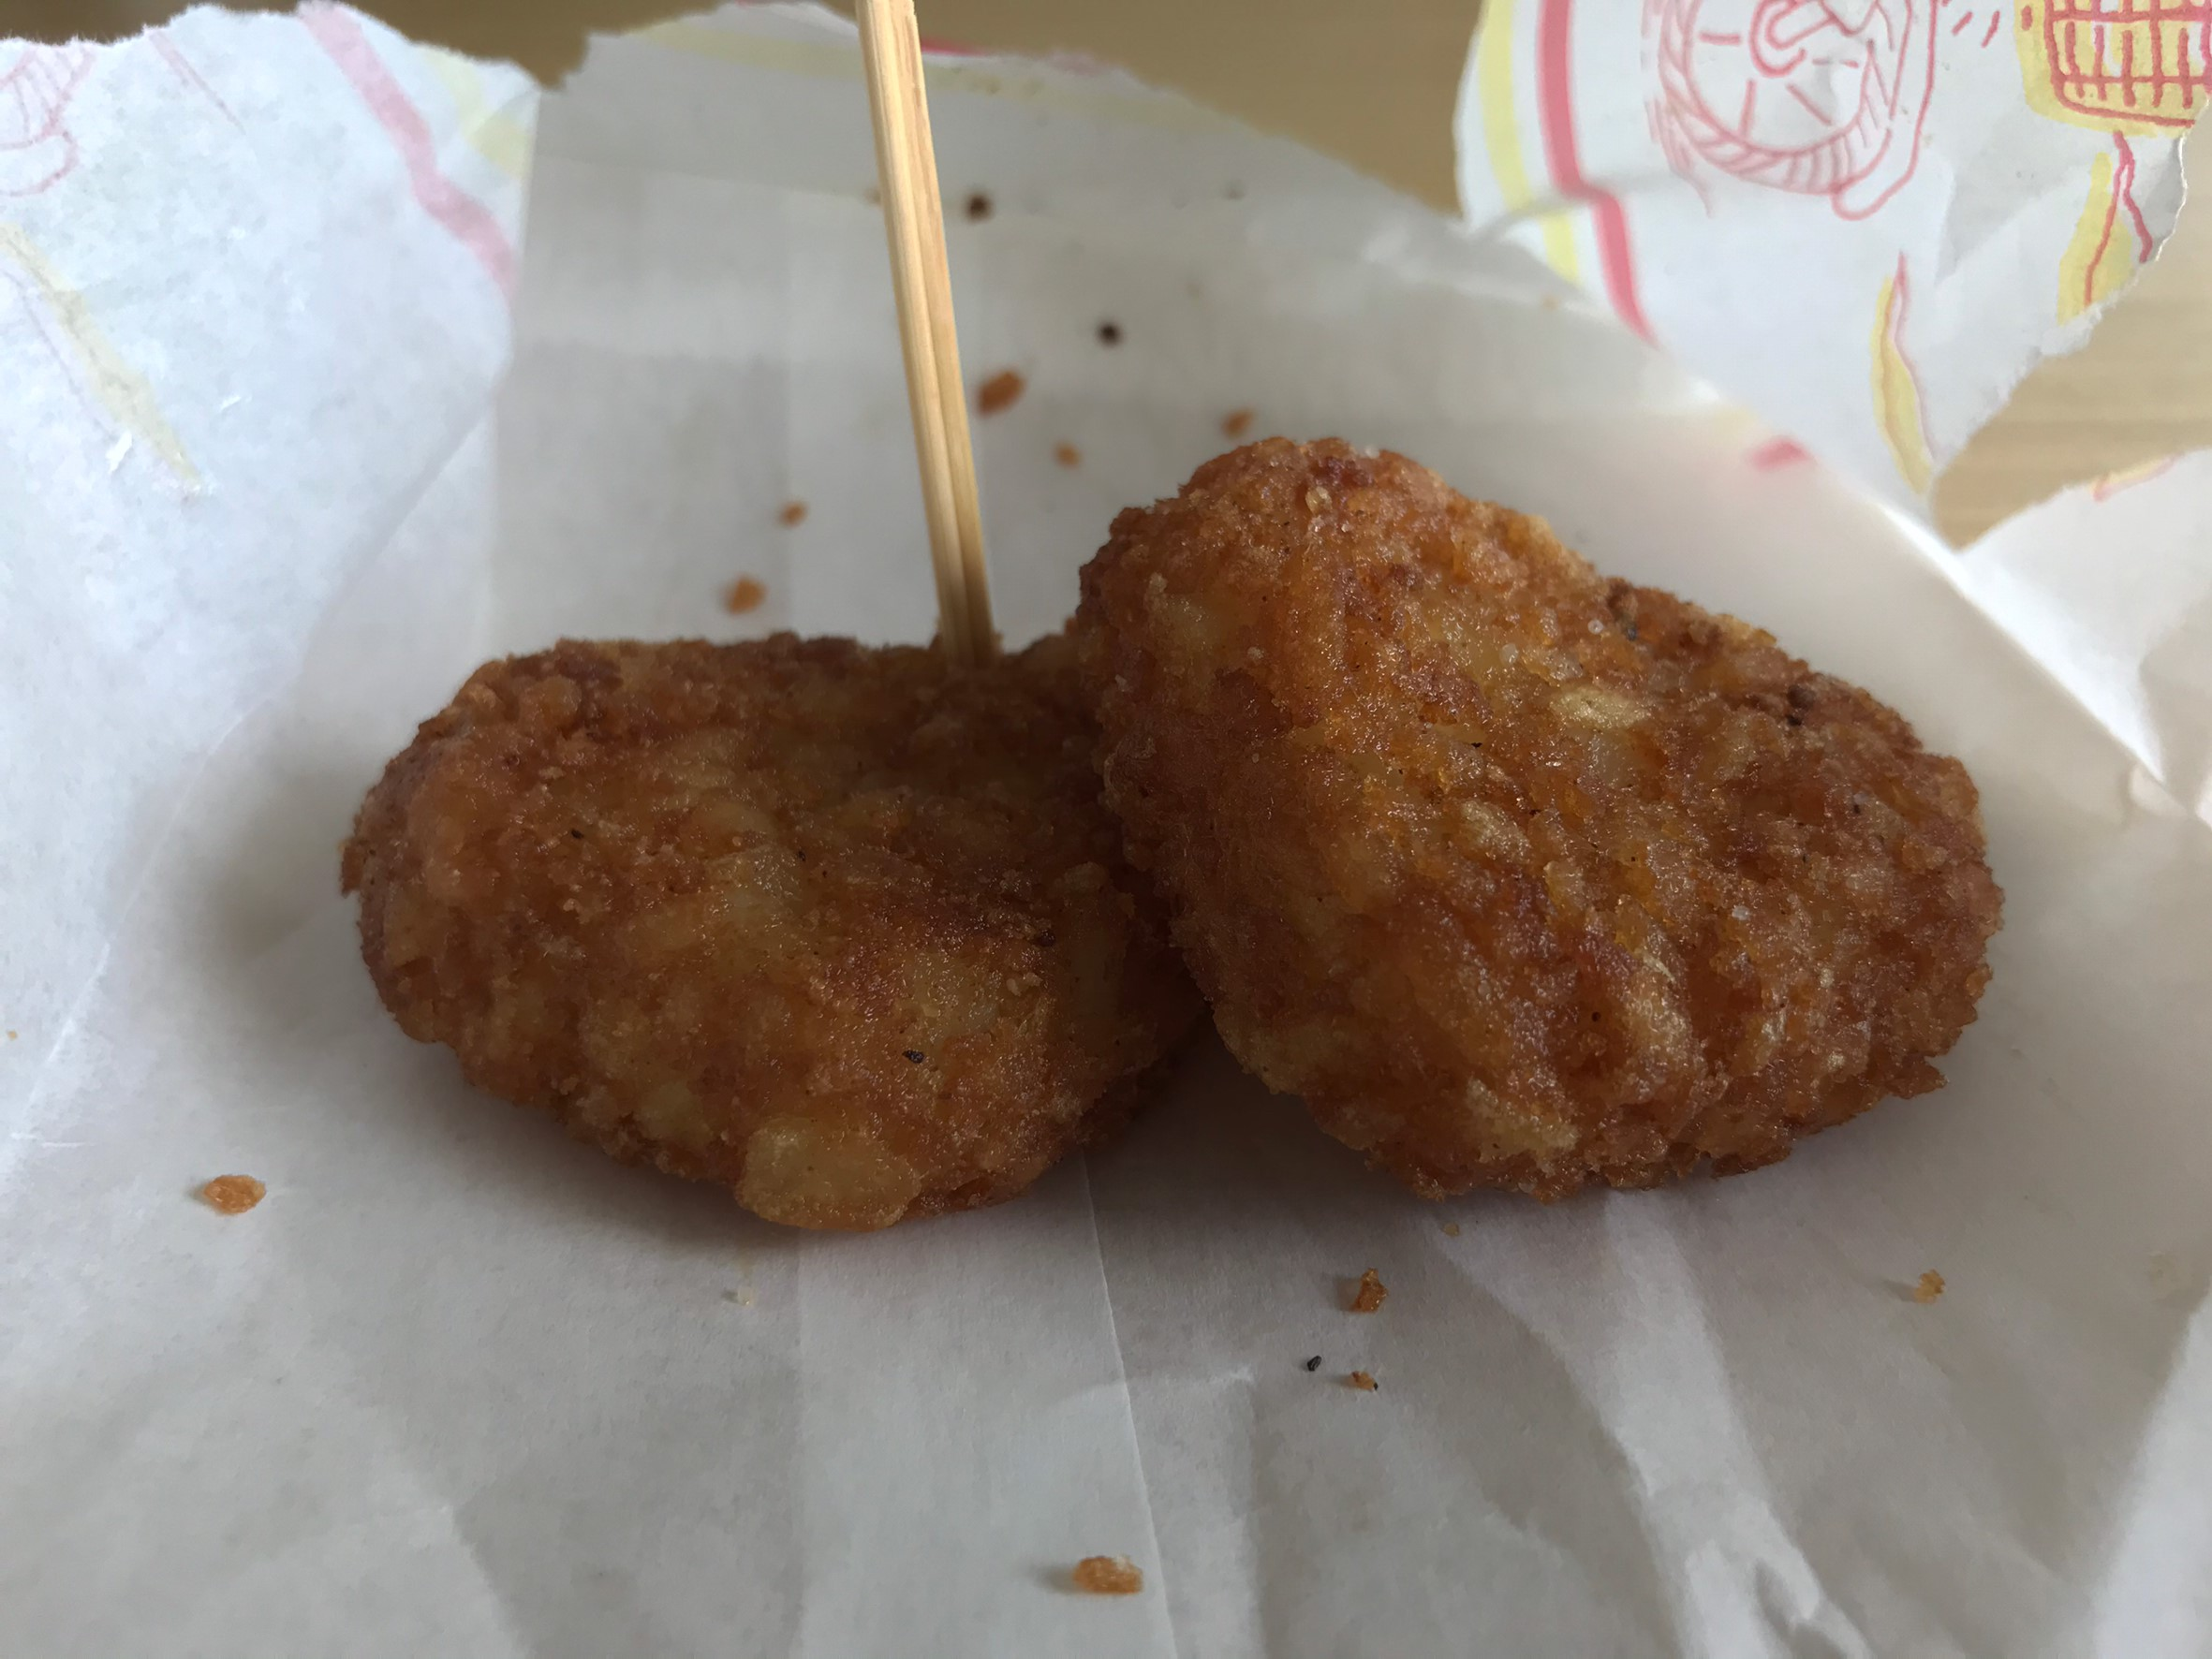triangle_hash_brown: (343, 434, 1994, 1234)
